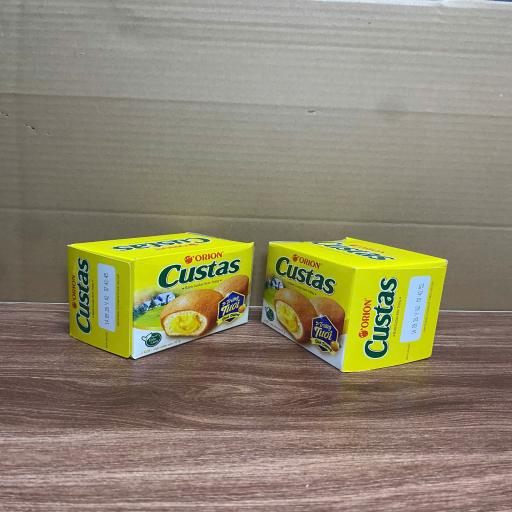custas: (261, 237, 448, 372), (67, 232, 254, 359)
